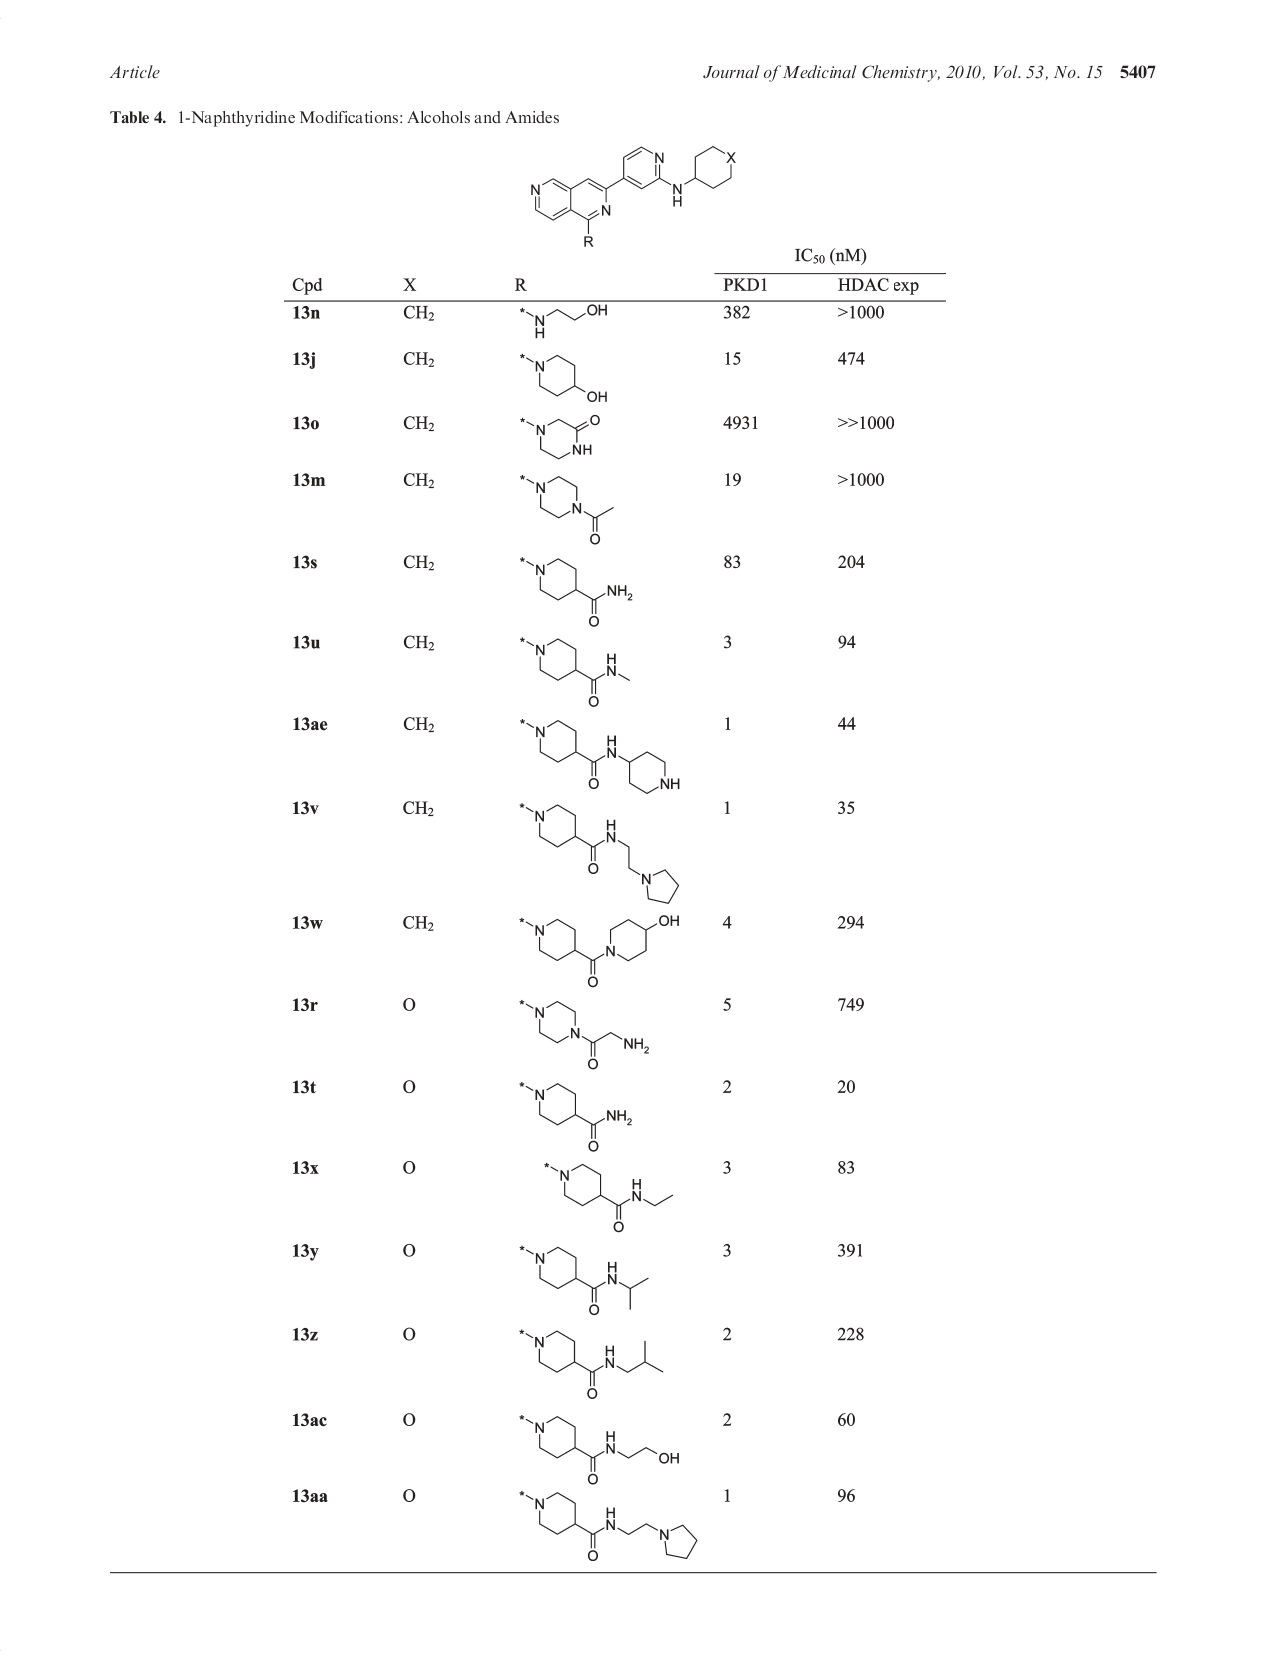exist_molecular: (527, 130, 743, 247), (515, 802, 692, 907), (511, 715, 696, 802), (511, 906, 699, 985), (520, 1402, 682, 1485), (516, 1487, 701, 1559), (512, 987, 656, 1071), (515, 1238, 653, 1325), (539, 1156, 680, 1235), (511, 1073, 637, 1156), (519, 1334, 665, 1400), (515, 634, 637, 713), (511, 468, 625, 551), (519, 555, 636, 626), (512, 347, 614, 410), (505, 411, 612, 457), (516, 302, 606, 340)
